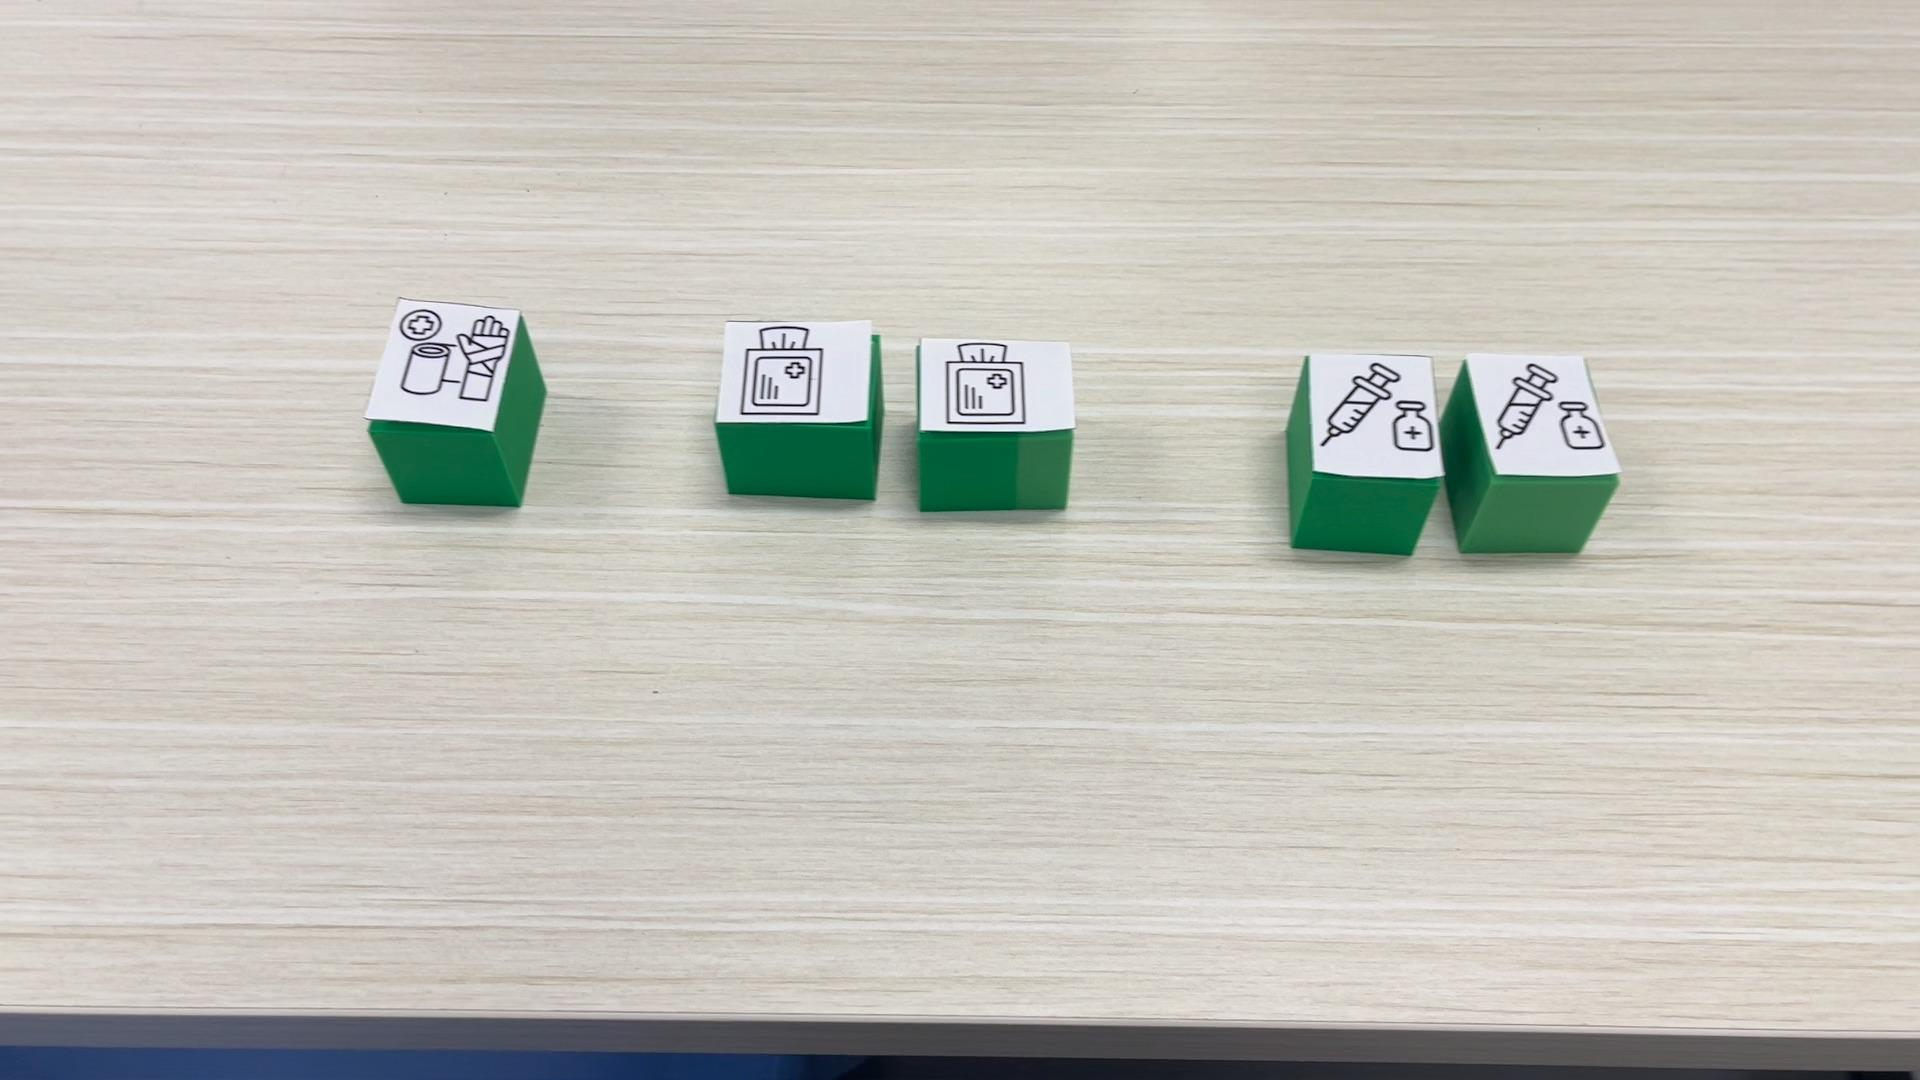Bandages: (363, 297, 546, 508)
Gauze: (715, 316, 886, 502), (915, 335, 1079, 512)
antiseptic cream: (1437, 348, 1622, 555), (1284, 353, 1443, 556)
